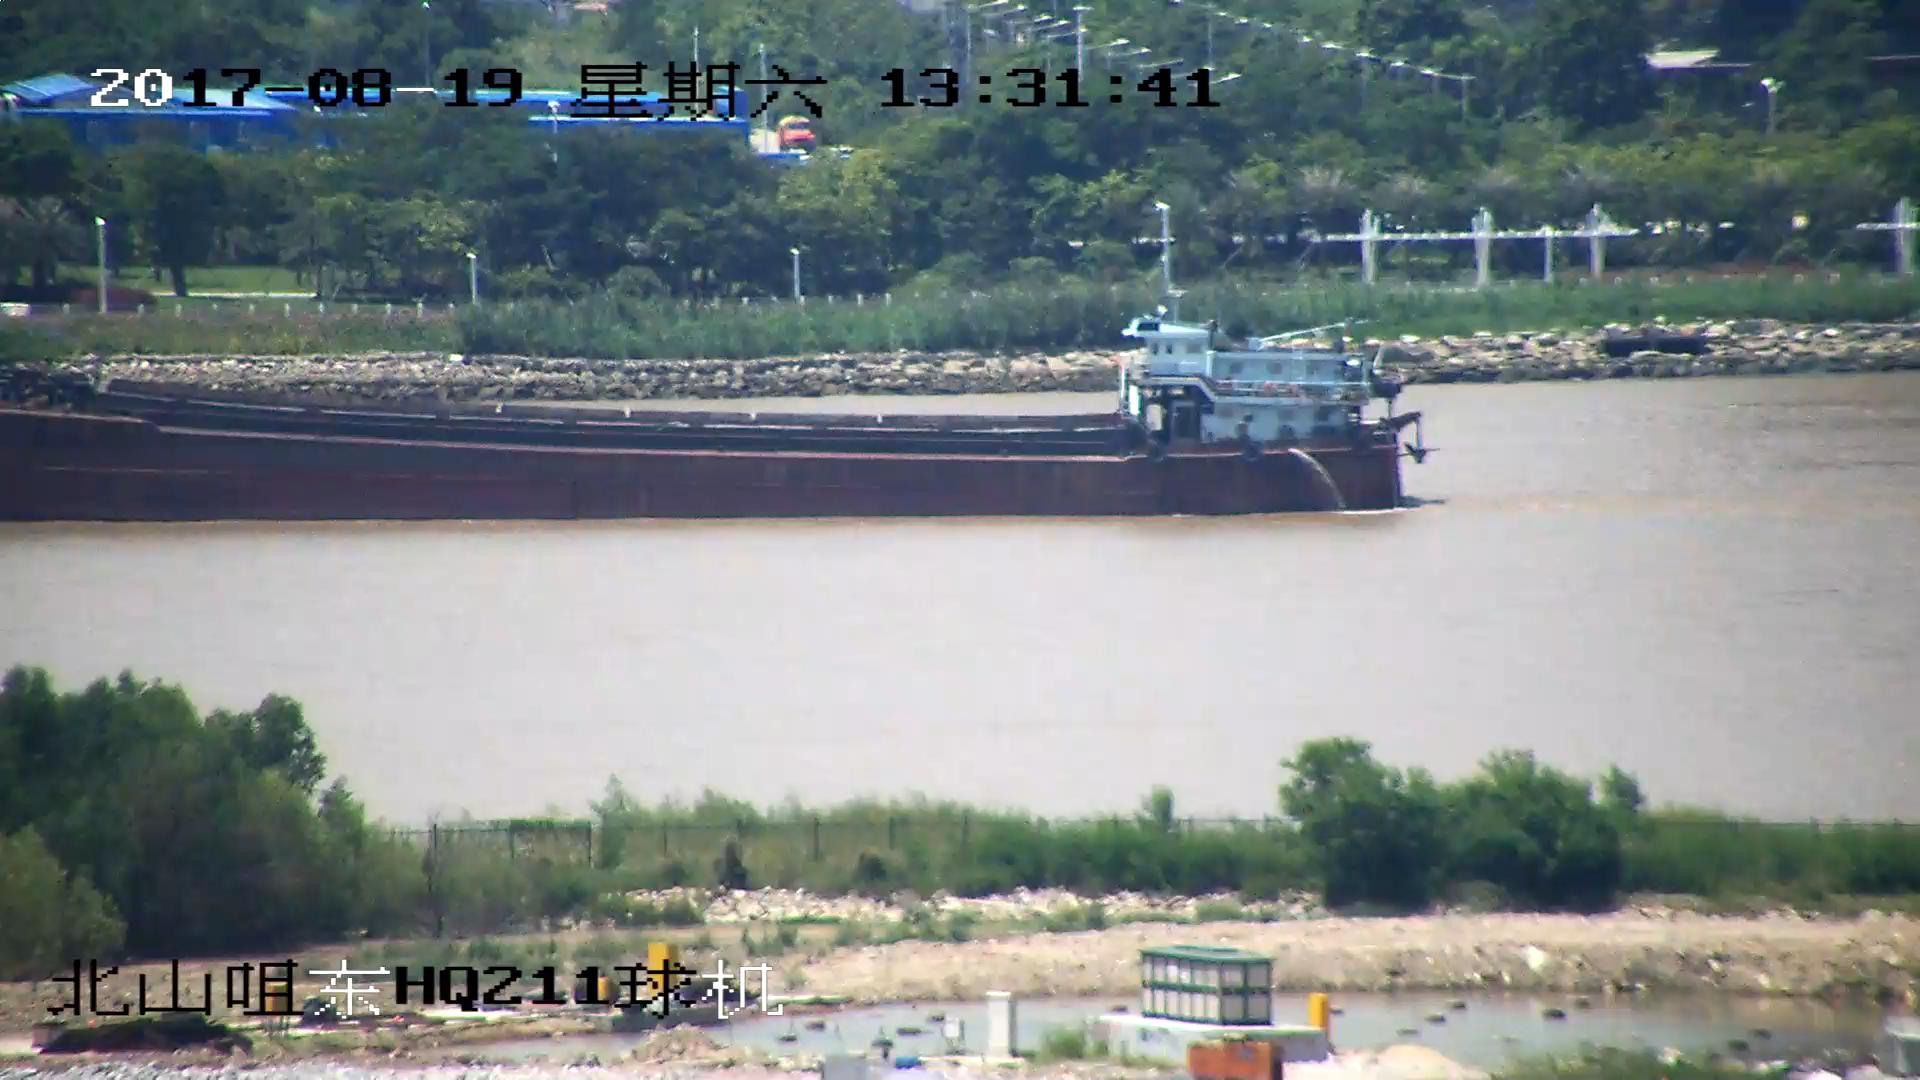bulk cargo carrier: (1, 271, 1420, 521)
